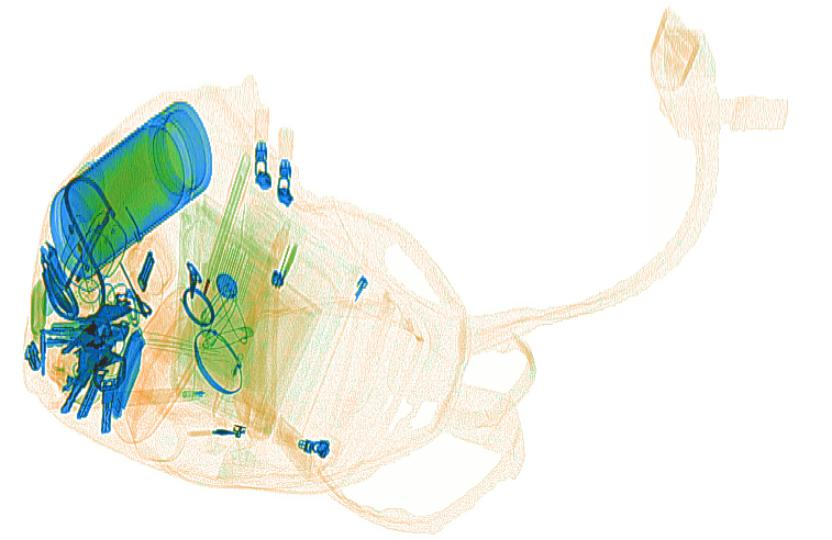knife: (110, 327, 146, 421)
